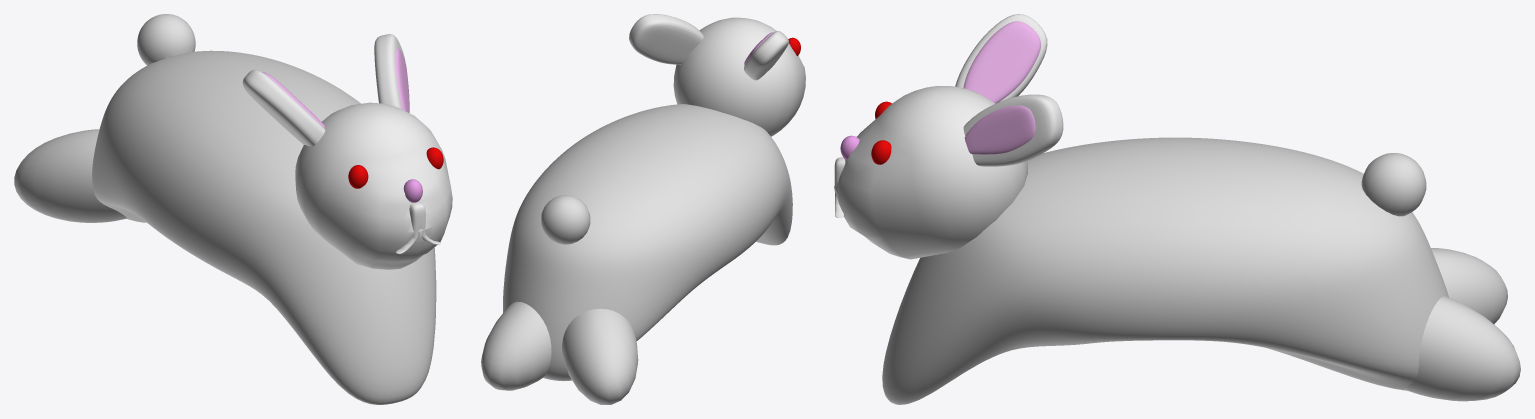
File: うさぎさん.fbx
3 views of the same model, side by side, from view 1: azimuth 30°, elevation 25°; view 2: azimuth 150°, elevation 25°; view 3: azimuth 270°, elevation 25° (orthographic). The views are drawn at different scales.
Parts seen in each view (by area): view 1: pSphere8, polySurface3, pSphere7, pCube6, pCube5, pCube7, pSphere4; view 2: pSphere8, polySurface3, pSphere7, pSphere6, pCube5, pCube6; view 3: pSphere8, polySurface3, pSphere6, pCube8, pSphere7, pCube5, pCube7, pCube6.
Boxes of the visible parts, x1,y1,x2,y2 form: pSphere8: [92, 14, 436, 404]; polySurface3: [295, 102, 452, 269]; pSphere7: [14, 129, 127, 222]; pCube6: [242, 69, 325, 146]; pCube5: [374, 34, 405, 109]; pCube7: [395, 48, 409, 112]; pSphere4: [348, 165, 368, 188]; pSphere8: [503, 104, 792, 381]; polySurface3: [673, 17, 805, 136]; pSphere7: [562, 308, 638, 404]; pSphere6: [481, 301, 551, 390]; pCube5: [629, 14, 703, 64]; pCube6: [744, 31, 788, 80]; pSphere8: [882, 137, 1449, 404]; polySurface3: [834, 86, 1027, 259]; pSphere6: [1405, 296, 1520, 401]; pCube8: [963, 21, 1040, 103]; pSphere7: [1431, 248, 1507, 324]; pCube5: [963, 94, 1063, 166]; pCube7: [964, 105, 1035, 154]; pCube6: [955, 14, 1047, 101].
Bounding box in the file's own units: 0.679 × 0.8862 × 1.63.
